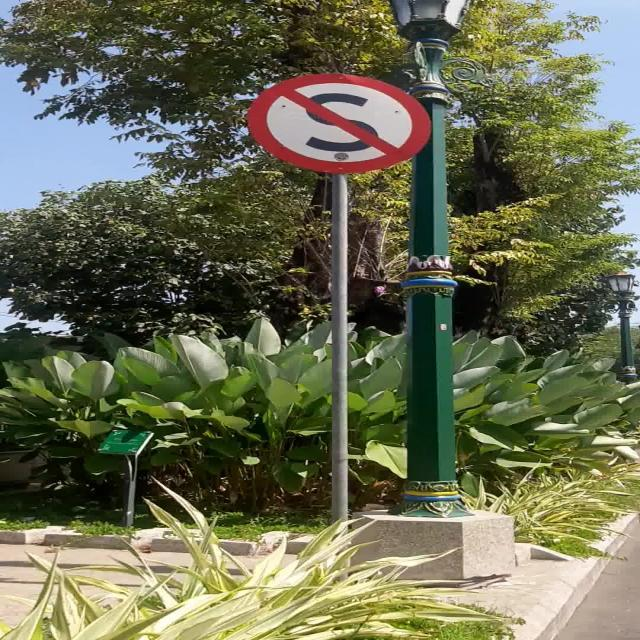Dilarang Berhenti: (248, 74, 431, 174)
